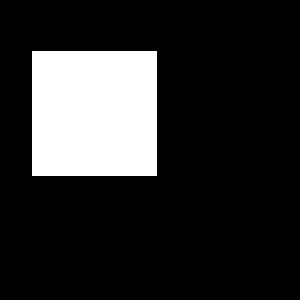circle: (32, 51, 157, 176)
